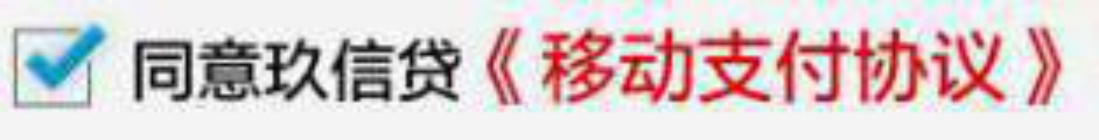CheckBox: (1, 1, 1098, 139)
